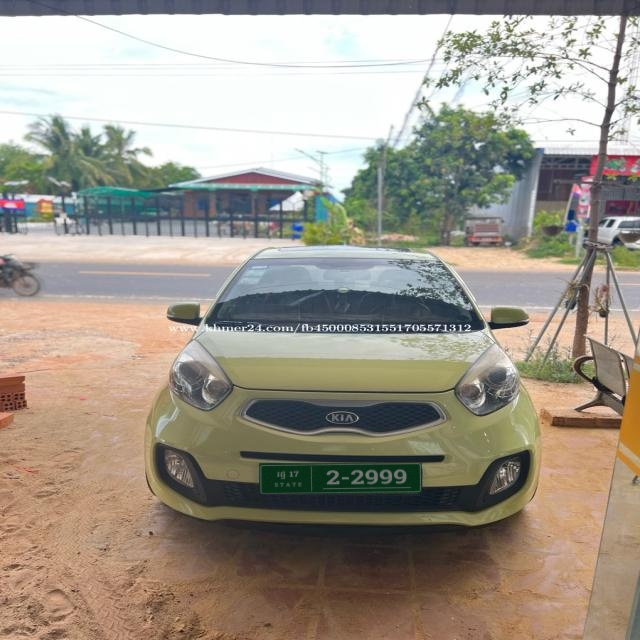Plate Number: (260, 464, 422, 494)
